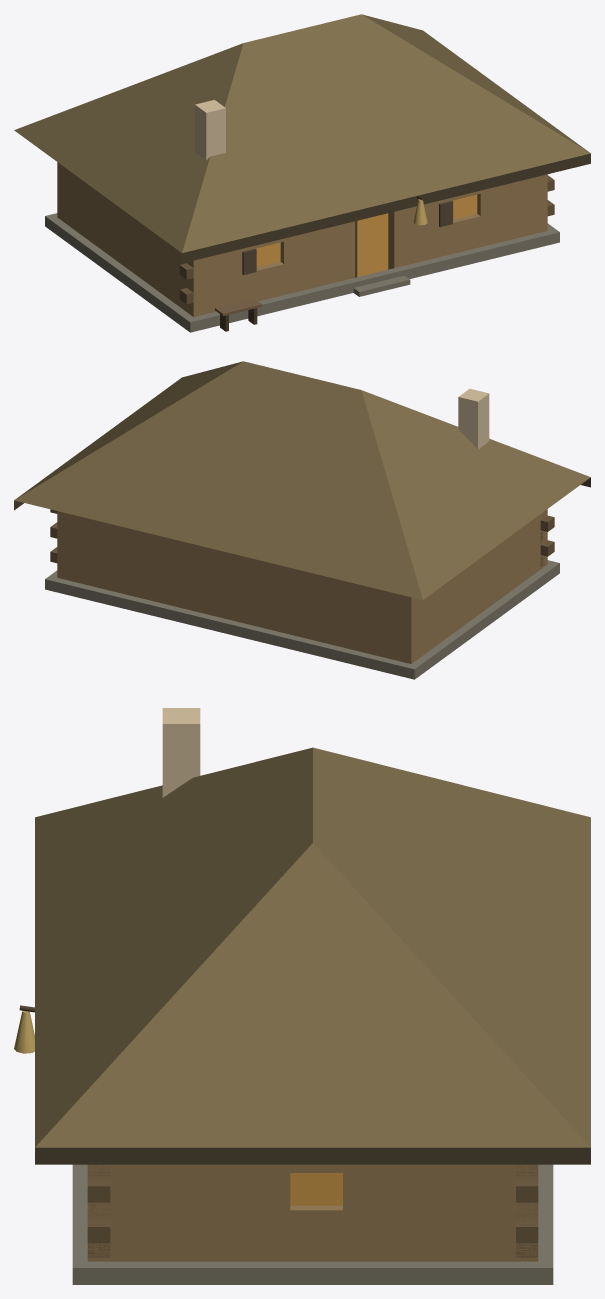
The model's file is korchma.glb.
The picture shows the model from 3 angles, top to bottom: view 1: azimuth 30°, elevation 25°; view 2: azimuth 150°, elevation 25°; view 3: azimuth 270°, elevation 25°; orthographic projection. The views are drawn at different scales.
Parts seen in each view (by area): view 1: roof_south, roof_west, wall_south (×4), wall_west, pryzba_s, eave_s, roof_east, pryzba_w, wall_south_sill (×2), door_light, chimney, pane (×2) (+2 smaller); view 2: roof_north, wall_north, roof_west, wall_west, pryzba_n, roof_east, pryzba_w, chimney; view 3: roof_east, roof_north, roof_south, wall_east (×2), pryzba_e, eave_e, chimney, wall_east_sill, pryzba_s, pryzba_n, pane, wall_south.
Part boxes in pixels (x1,y1,x2,y2): roof_south: (182, 14, 590, 252); roof_west: (14, 43, 243, 252); wall_south (×4): (187, 175, 547, 316); wall_west: (57, 162, 205, 316); pryzba_s: (185, 229, 559, 332); eave_s: (182, 153, 590, 263); roof_east: (362, 14, 589, 152); pryzba_w: (49, 217, 193, 328); wall_south_sill (×2): (256, 214, 480, 301); door_light: (357, 213, 388, 276); chimney: (195, 100, 225, 160); pane (×2): (256, 194, 477, 267); roof_north: (14, 361, 422, 599); wall_north: (57, 511, 417, 663); roof_west: (361, 390, 590, 599); wall_west: (399, 514, 540, 663); pryzba_n: (45, 576, 419, 679); roof_east: (15, 361, 242, 499); pryzba_w: (411, 564, 555, 675); chimney: (458, 388, 489, 449); roof_east: (35, 843, 590, 1147); roof_north: (313, 747, 590, 1146); roof_south: (35, 747, 312, 1146); wall_east (×2): (88, 1164, 538, 1261); pryzba_e: (87, 1261, 538, 1284); eave_e: (35, 1147, 590, 1164); chimney: (162, 708, 200, 797); wall_east_sill: (290, 1205, 342, 1261); pryzba_s: (72, 1164, 87, 1284); pryzba_n: (538, 1164, 553, 1284); pane: (290, 1173, 342, 1205); wall_south: (87, 1164, 110, 1261).
Bounding box in the file's own units: 10.4 × 5 × 7.68.
